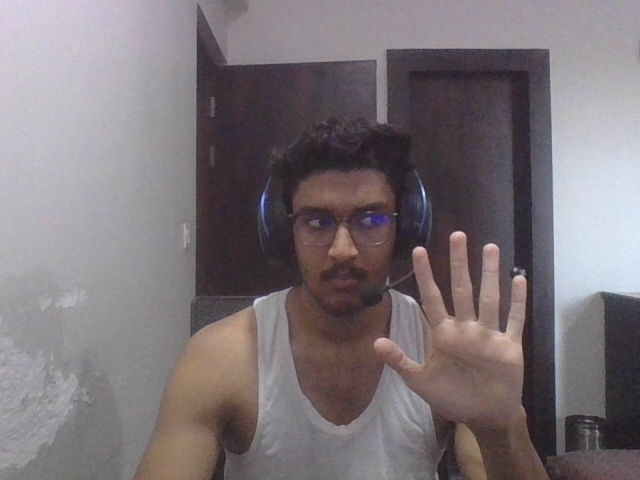Hello: (351, 230, 545, 429)
